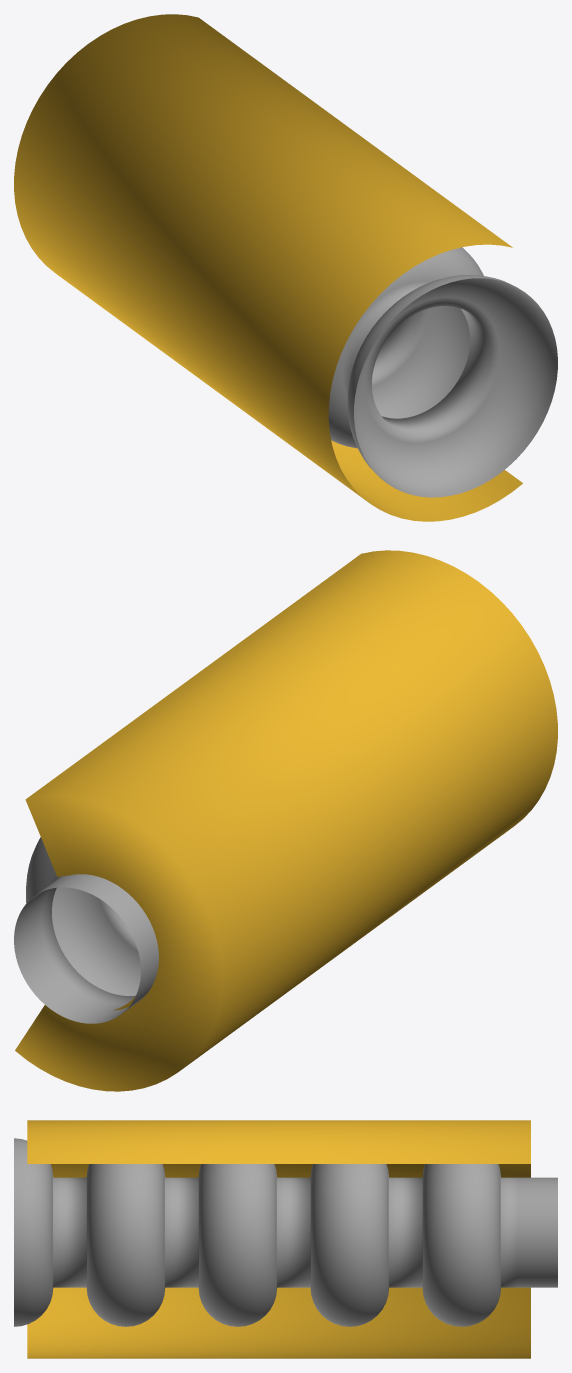
The model's file is ares_ea_cavity.glb.
3 views of the same model, one above another, from view 1: azimuth 30°, elevation 25°; view 2: azimuth 150°, elevation 25°; view 3: azimuth 270°, elevation 25° (orthographic). The views are drawn at different scales.
Parts seen in each view (by area): view 1: TorusShell; view 2: TorusShell; view 3: TorusShell.
Part boxes in pixels (x1,y1,x2,y2): TorusShell: [14, 14, 557, 521]; TorusShell: [14, 550, 557, 1091]; TorusShell: [14, 1120, 557, 1358].
Bounding box in the file's own units: 1.3 × 1.51 × 3.46.
